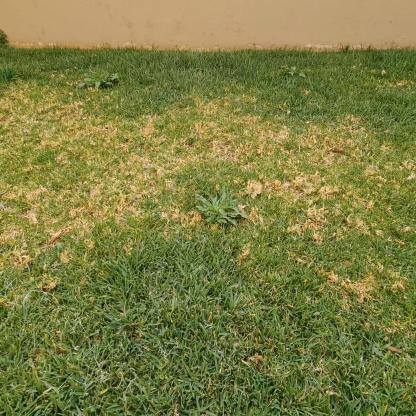Weeds: (194, 186, 249, 231), (78, 74, 120, 91), (283, 65, 308, 83)
